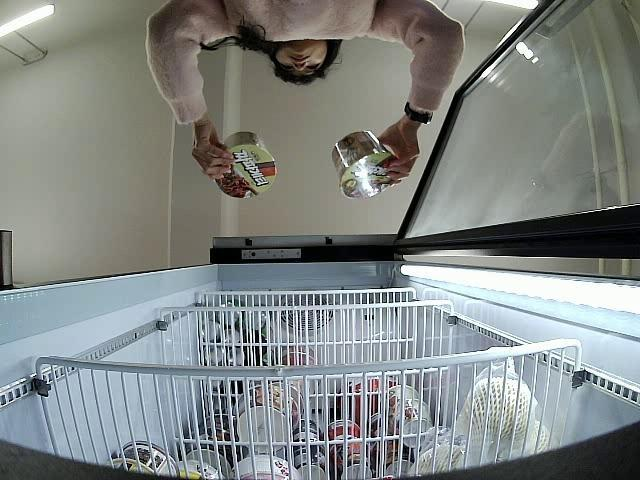03_chapagetti_L: (332, 130, 397, 200), (215, 131, 278, 200)
